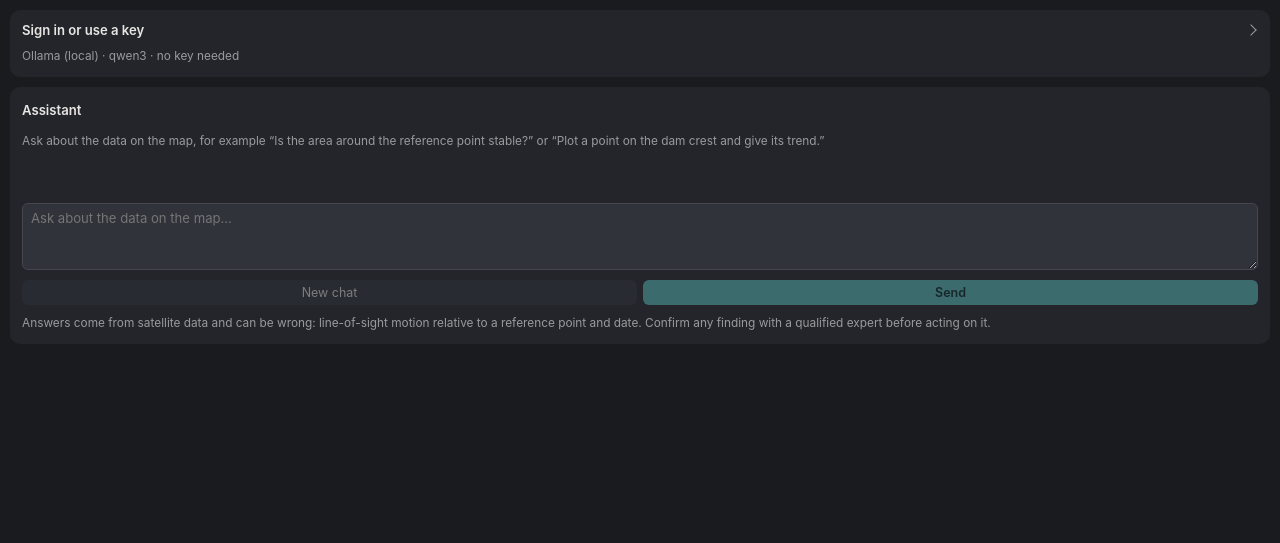
Test: AssistantTab sign-in › continues with ChatGPT in a new tab, waits, then shows who is signed in and signs out
Later steps or results of the test are not shown.
Click the button "Sign in or use a key" at x=83, y=30, box left=22, top=22, right=1258, bottom=38
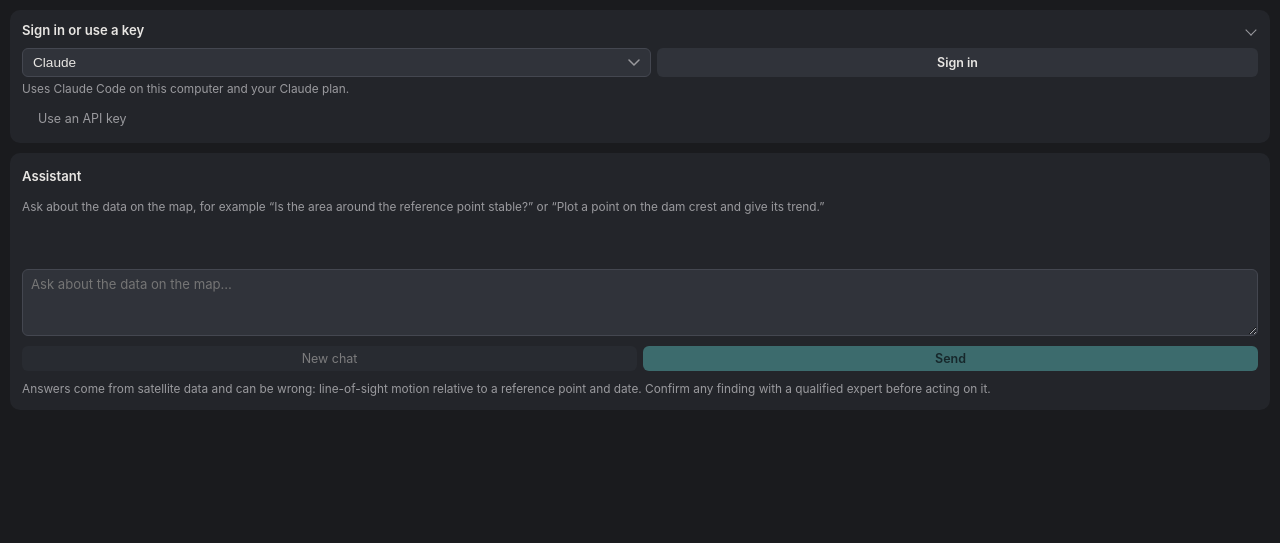
Select "ChatGPT" in the dropdown named "Sign in with" at x=336, y=62, box left=22, top=48, right=651, bottom=77
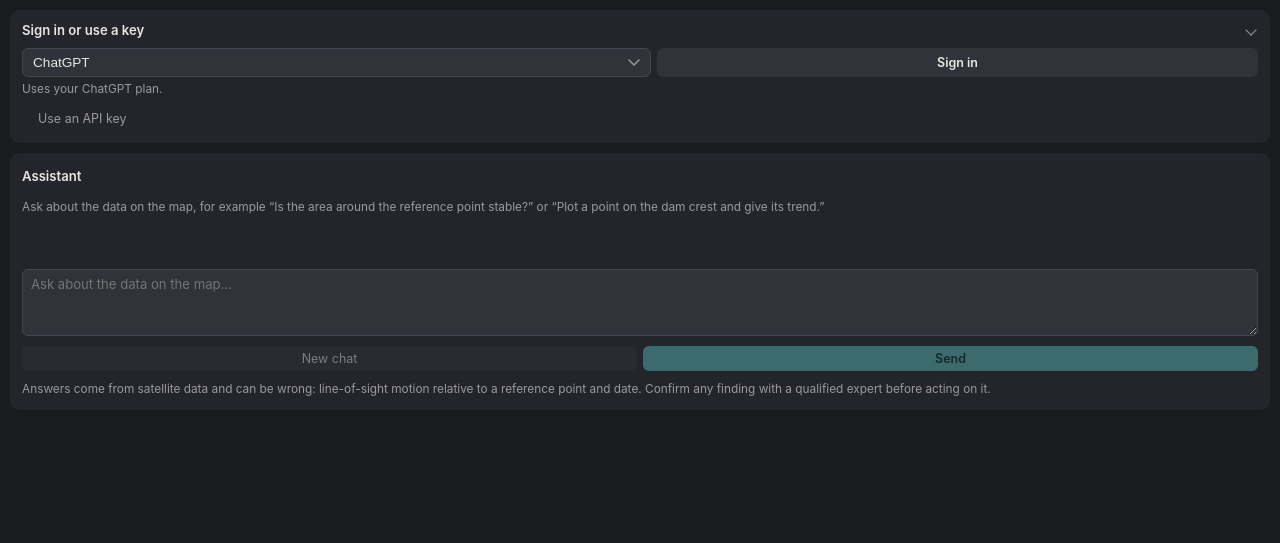
Click the button with aria-label "Continue with ChatGPT" at x=958, y=62, box left=657, top=48, right=1258, bottom=77
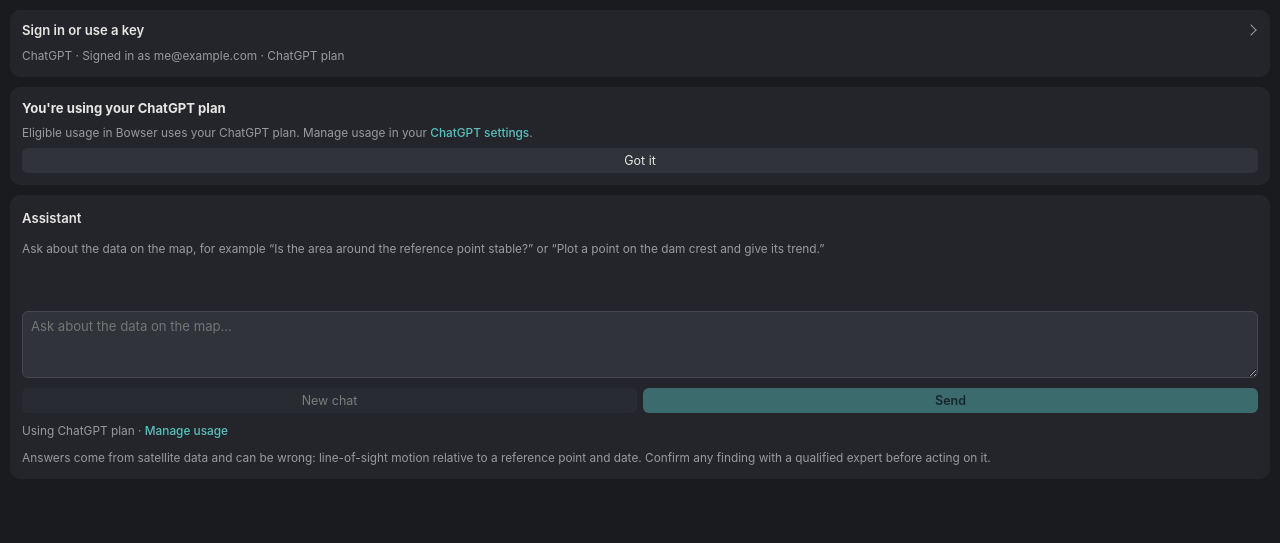
expect the text "ChatGPT · Signed in as me@example.com · ChatGPT plan" is shown: met, box left=22, top=49, right=344, bottom=63
expect the text "Using ChatGPT plan · Manage usage" is shown: met, box left=22, top=424, right=228, bottom=438
expect the text "You're using your ChatGPT plan" is shown: met, box left=22, top=100, right=226, bottom=116
Click the button "Got it" at x=640, y=160, box left=22, top=148, right=1258, bottom=173
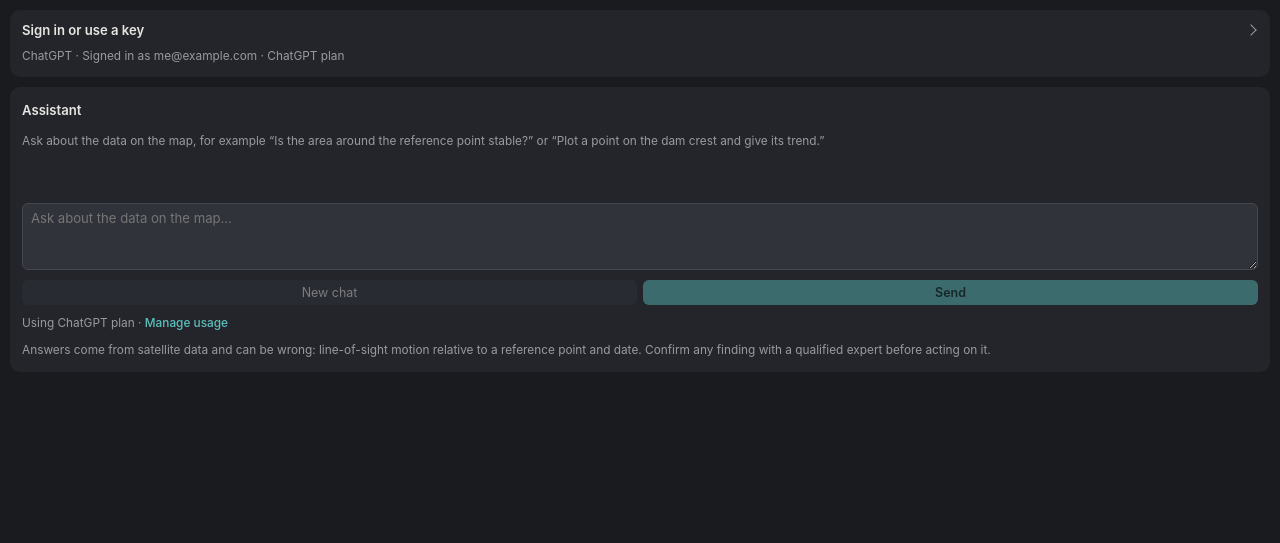
expect the text "You're using your ChatGPT plan" is gone: met
Click the button "Sign in or use a key" at x=83, y=30, box left=22, top=22, right=1258, bottom=38
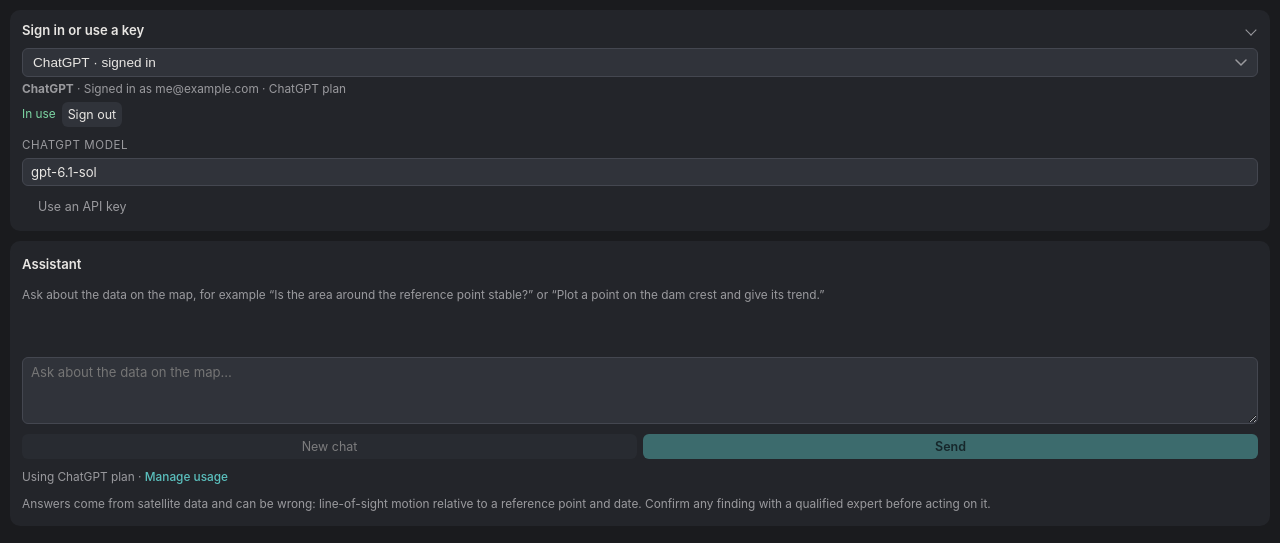
expect the text "ChatGPT · Signed in as me@example.com · ChatGPT plan" is shown: met, box left=22, top=82, right=346, bottom=96
expect the text "In use" is shown: met, box left=22, top=106, right=56, bottom=123
Click the button "Sign out" at x=92, y=115, box left=62, top=102, right=122, bottom=127
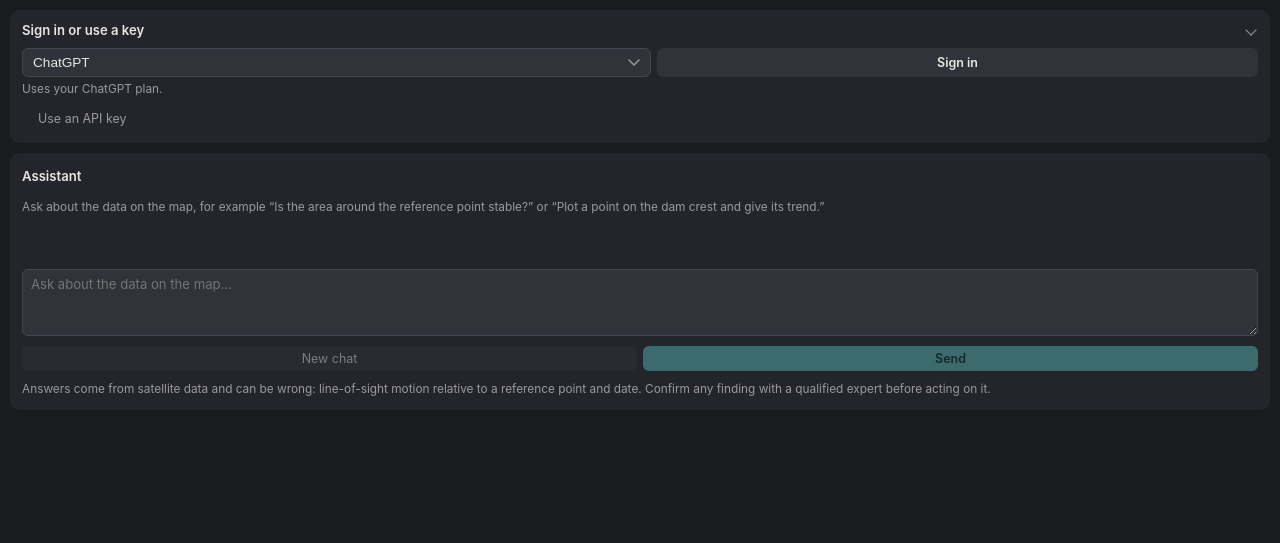
expect the button with aria-label "Continue with ChatGPT" is shown: met, box left=657, top=48, right=1258, bottom=77
